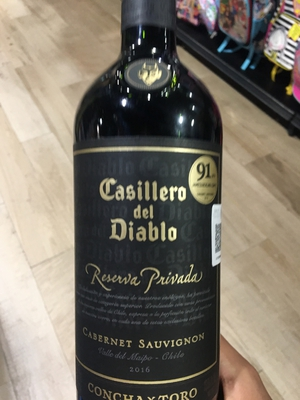casillero del diablo reserva privada cabernet sauvignon: (75, 1, 226, 400)
